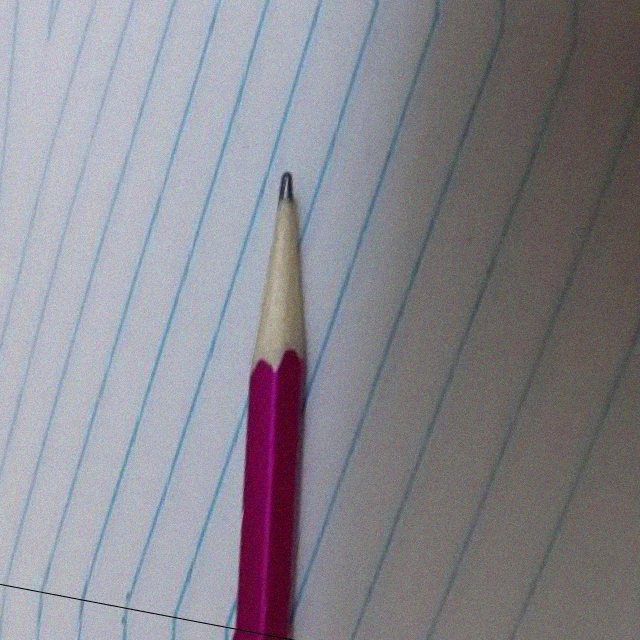pencil: (221, 159, 339, 382)
